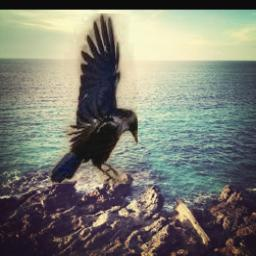Crow: (48, 14, 138, 185)
